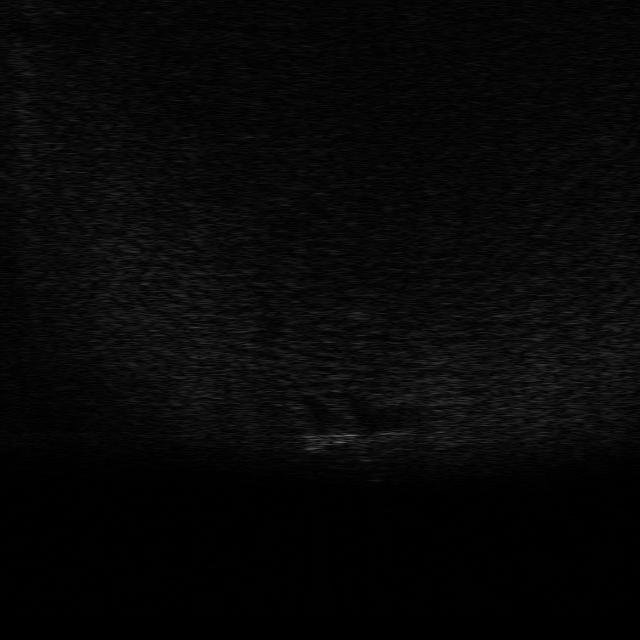plane: (301, 409, 410, 464)
